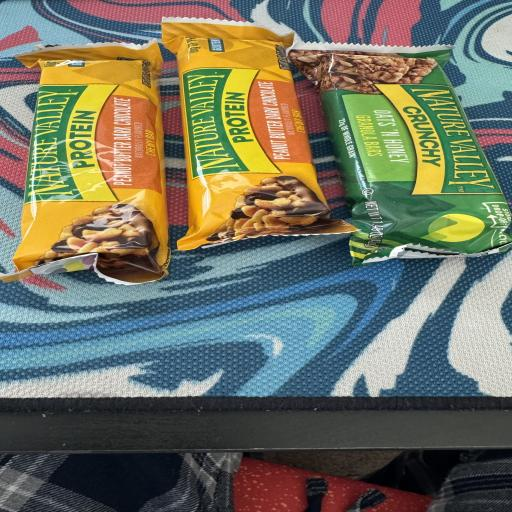granola: (288, 43, 511, 264), (162, 18, 355, 249), (0, 40, 169, 284)
